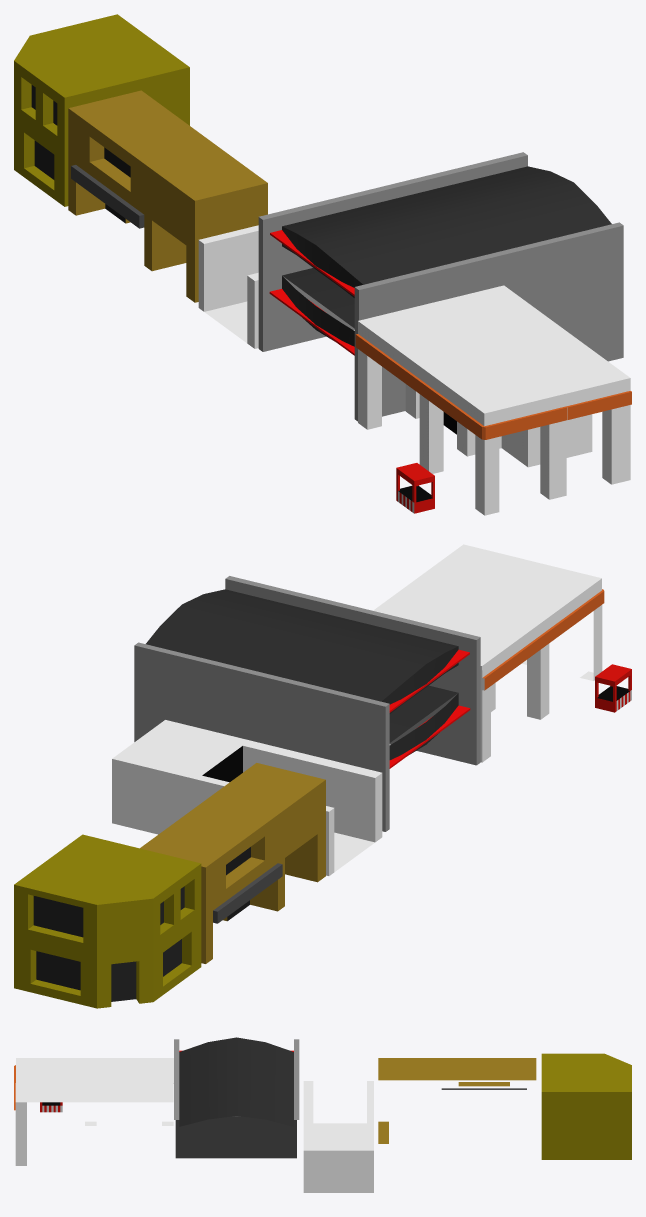
Rendered from Cuadra-3-Derecha.glb.
The picture shows the model from 3 angles, top to bottom: view 1: azimuth 30°, elevation 25°; view 2: azimuth 150°, elevation 25°; view 3: azimuth 270°, elevation 25°; orthographic projection. The views are drawn at different scales.
Parts seen in each view (by area): view 1: Plane2, PAREDES, BASE, Plane4, Plane5, Plane3, Plane, Decorations; view 2: PAREDES, Plane5, BASE, Plane2, Plane4, Plane3, Plane, Decorations; view 3: Plane5, BASE, Plane2, Plane3, Ventanas y Puertas, Plane4, PAREDES, Plane.
Boxes of the visible parts, x1,y1,x2,y2 form: Plane2: [355, 285, 631, 515]; PAREDES: [258, 152, 623, 421]; BASE: [282, 166, 611, 346]; Plane4: [68, 90, 267, 302]; Plane5: [14, 14, 189, 206]; Plane3: [198, 225, 258, 348]; Plane: [396, 463, 434, 513]; Decorations: [269, 230, 354, 355]; PAREDES: [134, 576, 480, 831]; Plane5: [14, 834, 201, 1008]; BASE: [146, 589, 458, 759]; Plane2: [373, 544, 604, 762]; Plane4: [140, 763, 325, 963]; Plane3: [112, 720, 382, 875]; Plane: [595, 664, 631, 712]; Decorations: [389, 649, 470, 768]; Plane5: [541, 1053, 631, 1159]; BASE: [179, 1037, 293, 1126]; Plane2: [14, 1058, 173, 1165]; Plane3: [303, 1081, 373, 1192]; Ventanas y Puertas: [175, 1116, 296, 1158]; Plane4: [378, 1058, 536, 1143]; PAREDES: [174, 1039, 299, 1119]; Plane: [40, 1102, 62, 1112].
Bounding box in the file's own units: 30.37 × 12.94 × 82.13.
